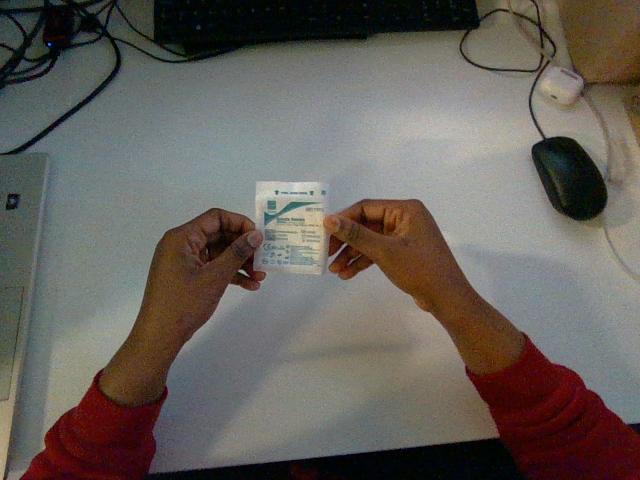gauze: (254, 181, 328, 273)
